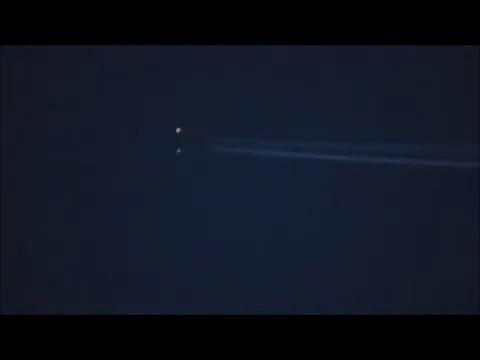Plane: (168, 119, 357, 176)
